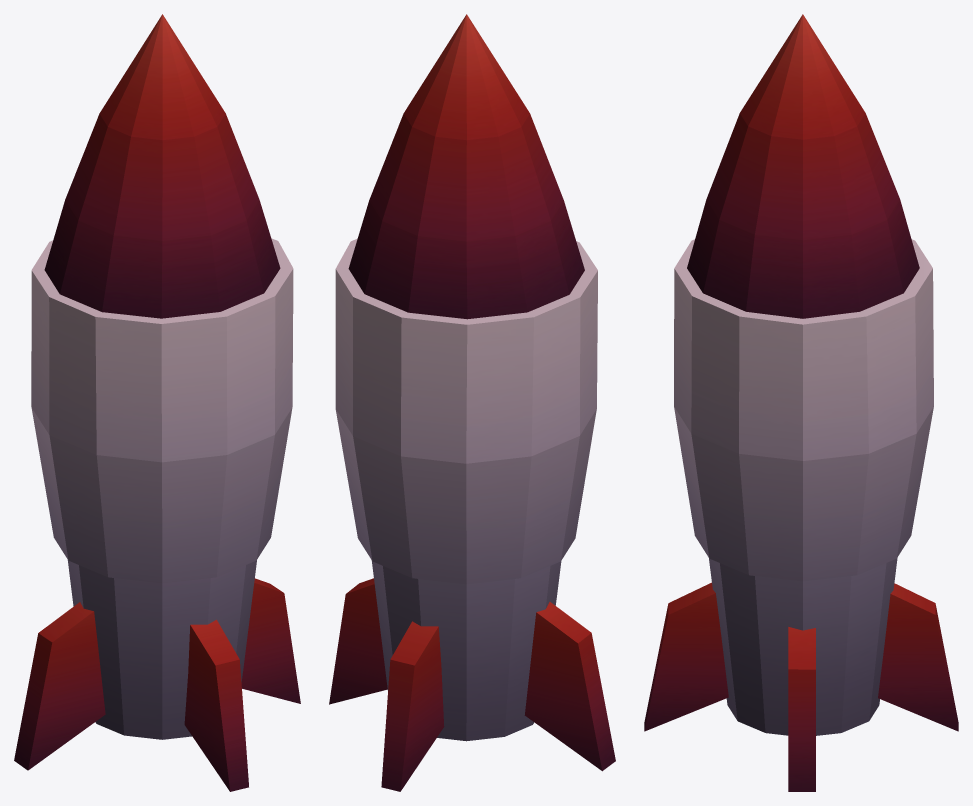
File: Tank_Shell_Red.fbx
3 renders of one model, left to right at view 1: azimuth 30°, elevation 25°; view 2: azimuth 150°, elevation 25°; view 3: azimuth 270°, elevation 25°, orthographic.
Visible parts, largest first — view 1: Tank Shell Pointy; view 2: Tank Shell Pointy; view 3: Tank Shell Pointy.
Part boxes in pixels (x1,y1,x2,y2): Tank Shell Pointy: (14, 14, 300, 791); Tank Shell Pointy: (329, 14, 615, 791); Tank Shell Pointy: (644, 14, 958, 791).
Size of the model in its own units: 31.58 by 79.2 by 31.58.
